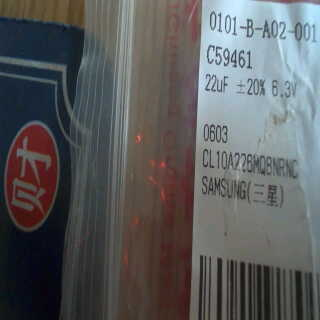22uF: (204, 71, 236, 99)
